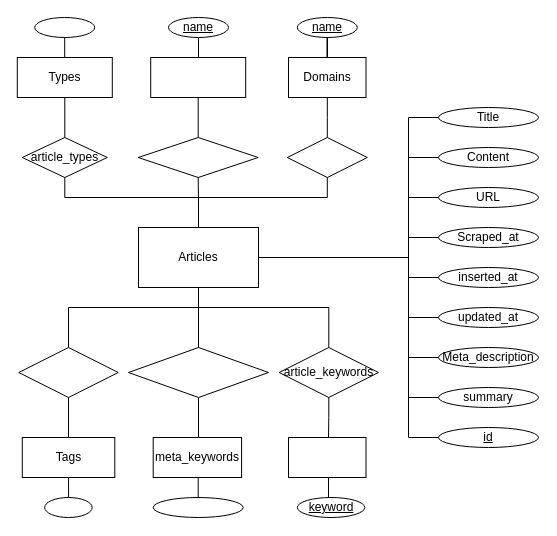
This 557x536 diagram has some shape labels left out. The shapes that lost their labels are listed below. From the top down, each one's centre as x and y in pixels, then its label:
the point at 64,27: type
the point at 198,77: Authors
the point at 197,157: article_authors
the point at 326,157: Owns
the point at 68,372: article_tags
the point at 198,372: article_meta_keywords
the point at 327,457: keywords
the point at 68,507: tag
the point at 197,507: meta_keyword
